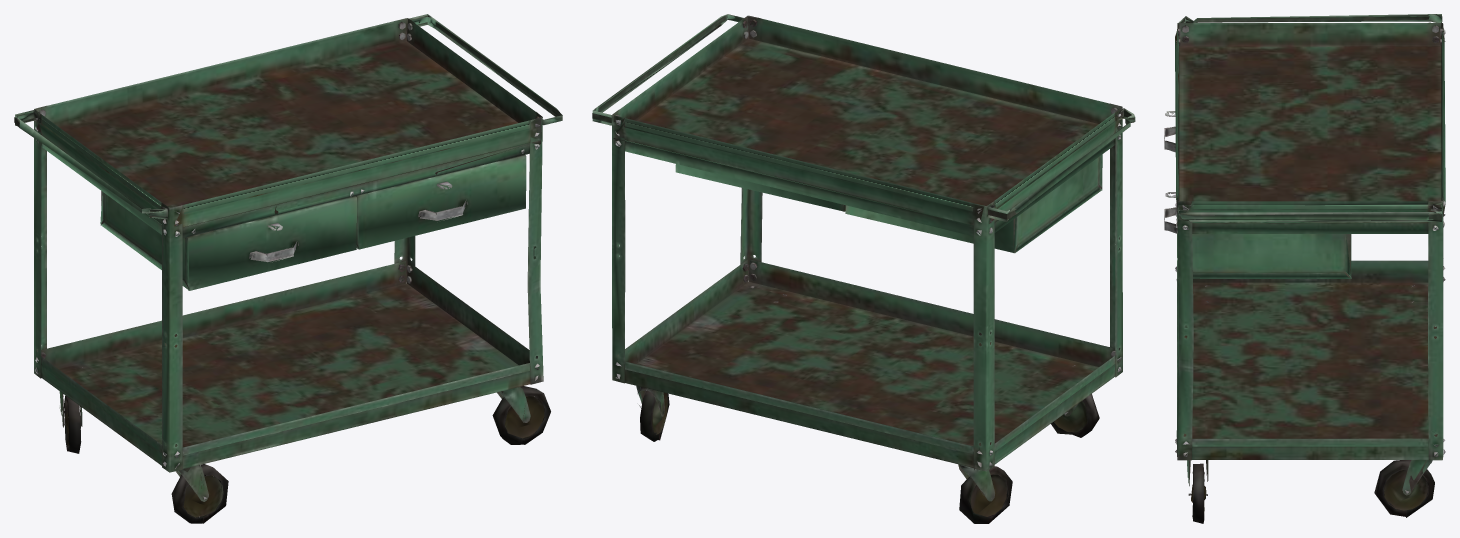
Rendered from isl_toolcart.glb.
3 renders of one model, left to right at view 1: azimuth 30°, elevation 25°; view 2: azimuth 150°, elevation 25°; view 3: azimuth 270°, elevation 25°, orthographic. The views are drawn at different scales.
Visible parts, largest first — view 1: tool_cart; view 2: tool_cart; view 3: tool_cart.
Boxes of the visible parts, x1,y1,x2,y2 form: tool_cart: [14, 14, 562, 523]; tool_cart: [592, 14, 1135, 523]; tool_cart: [1164, 14, 1445, 523].
Bounding box in the file's own units: 1.28 × 0.9654 × 0.7554.
1 material, 1 textured.
